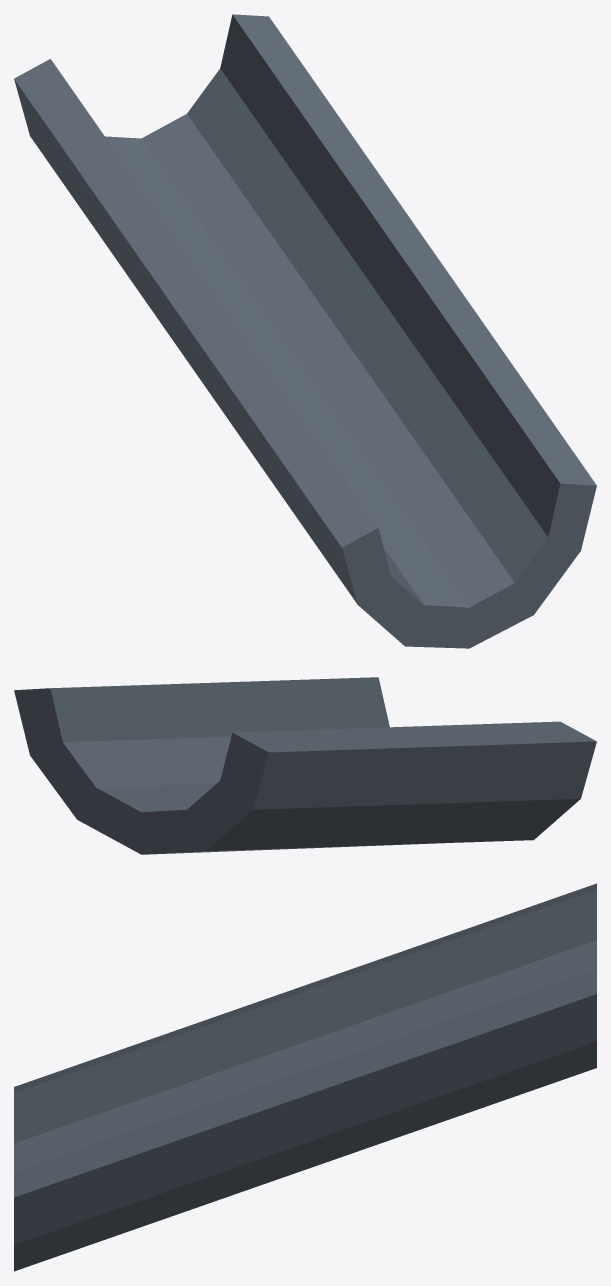
Rendered from rampa2.glb.
3 views of the same model, one above another, from view 1: azimuth 30°, elevation 25°; view 2: azimuth 150°, elevation 25°; view 3: azimuth 270°, elevation 25° (orthographic). The views are drawn at different scales.
Visible parts, largest first — view 1: rampa2-col; view 2: rampa2-col; view 3: rampa2-col.
Part boxes in pixels (x1,y1,x2,y2): rampa2-col: (14,14,596,648); rampa2-col: (14,677,596,854); rampa2-col: (14,883,596,1271).
Size of the model in its own units: 0.6732 by 0.9384 by 1.5.
